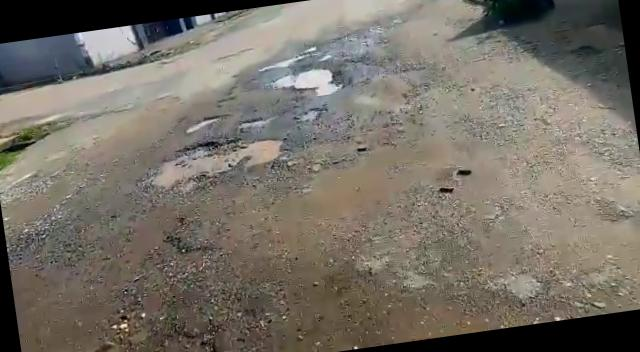pothole: (133, 130, 290, 196), (265, 62, 335, 94), (185, 112, 229, 134), (266, 52, 314, 70), (288, 106, 324, 125), (236, 116, 272, 130)
